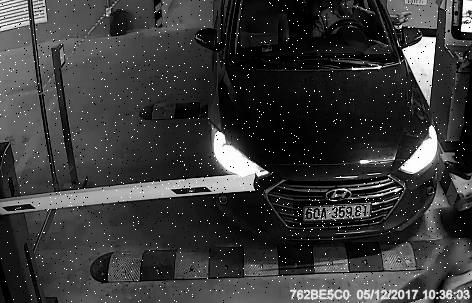License-plate: (295, 199, 387, 231)
